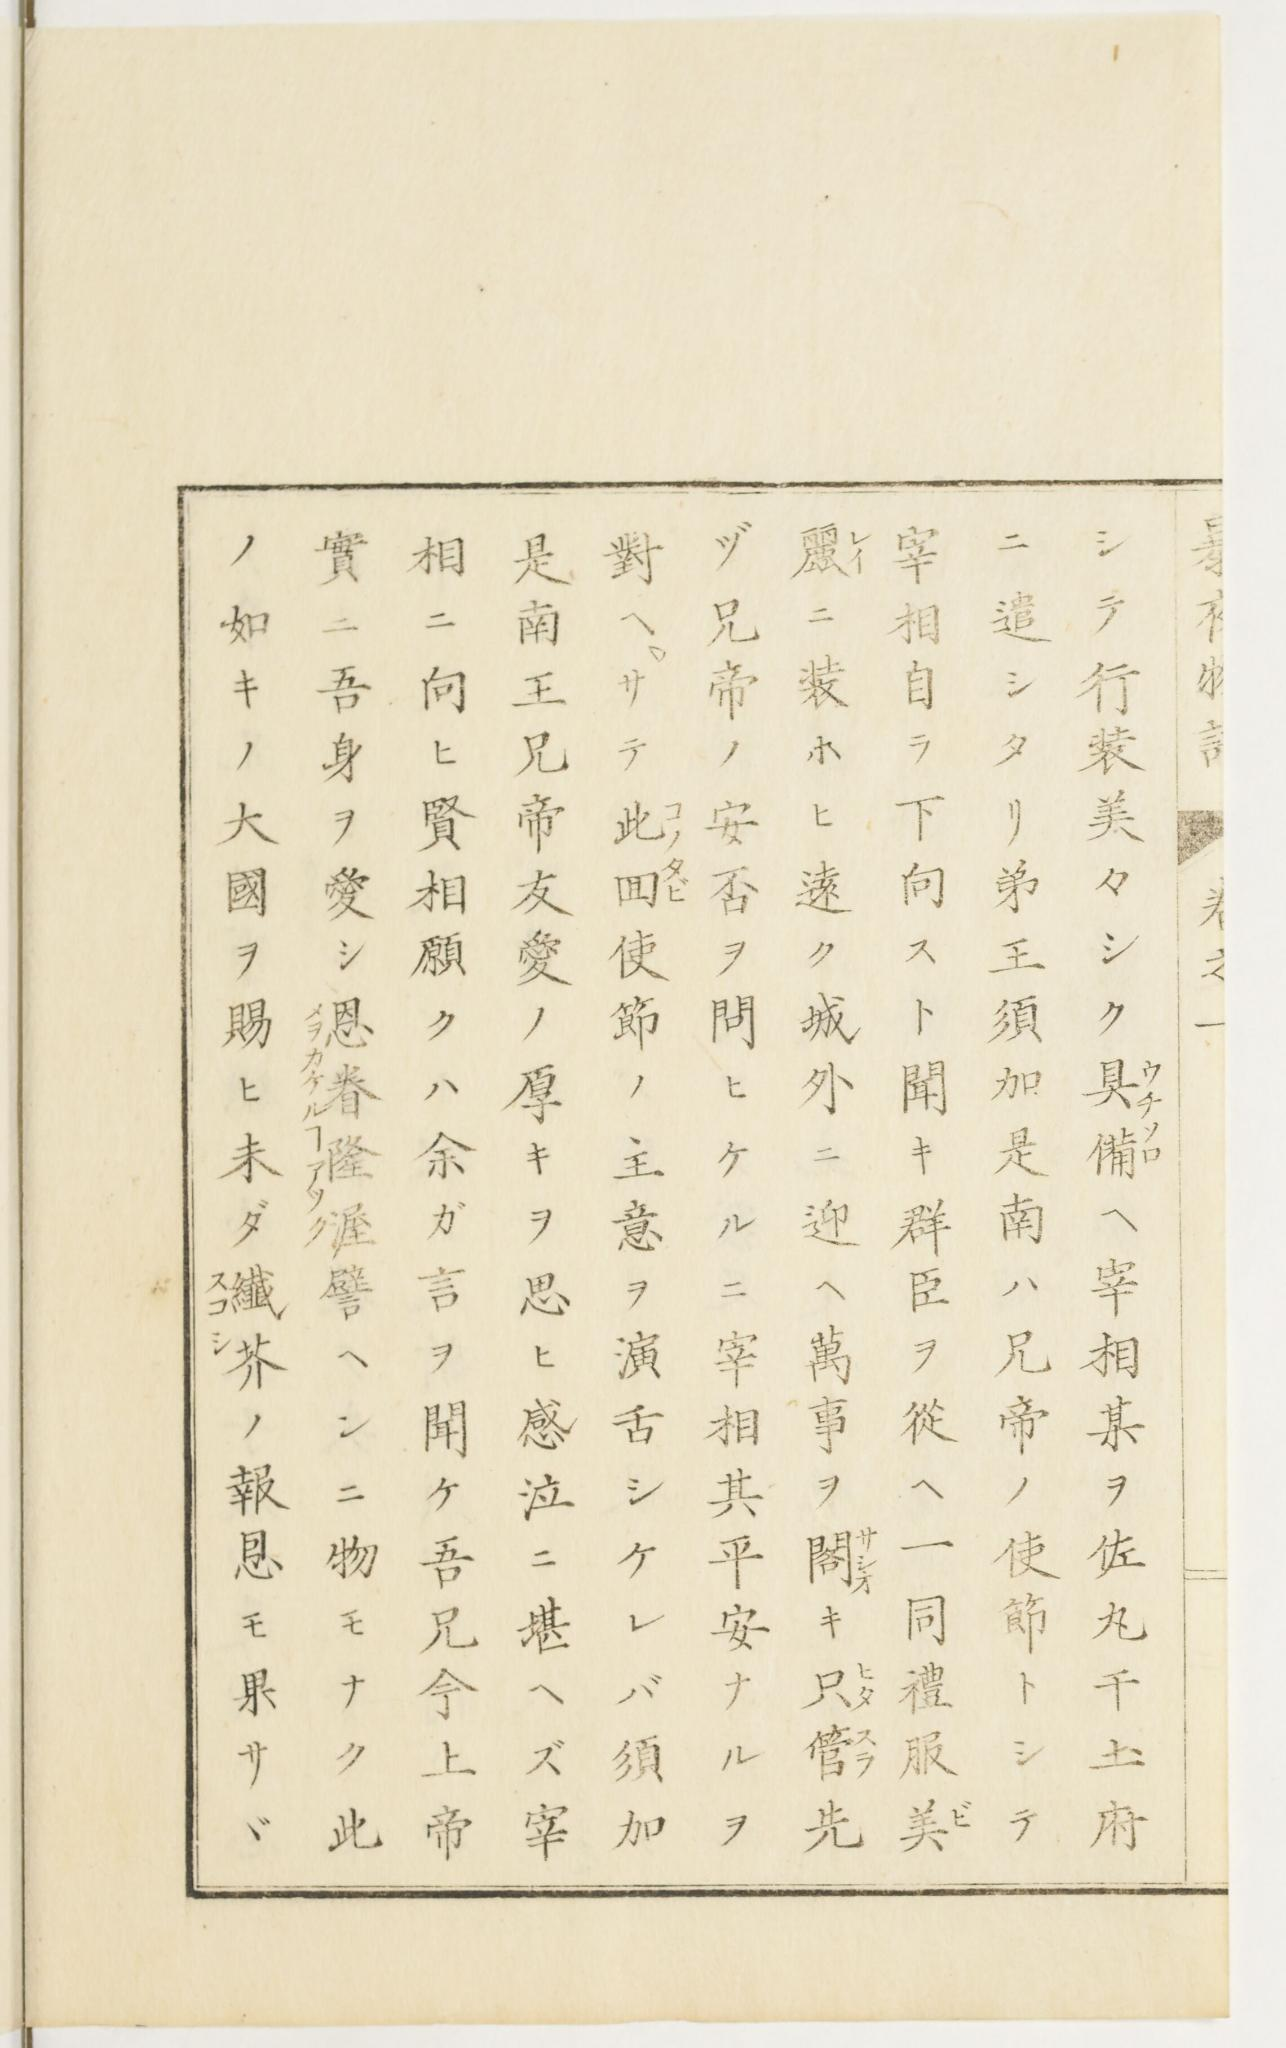MainZone-Character: (788, 524, 890, 591), (893, 1787, 982, 1860), (804, 1524, 884, 1604), (1083, 1118, 1169, 1183), (1083, 1051, 1167, 1115), (799, 1660, 882, 1721), (802, 1724, 884, 1784), (612, 854, 696, 914), (609, 798, 690, 854)
MainZone-Ruby: (852, 1528, 882, 1598), (1135, 1056, 1167, 1117), (1138, 1115, 1172, 1173), (661, 857, 695, 909), (847, 524, 879, 575), (852, 1663, 880, 1713), (947, 1792, 981, 1833), (659, 801, 686, 851), (852, 1730, 877, 1777)
